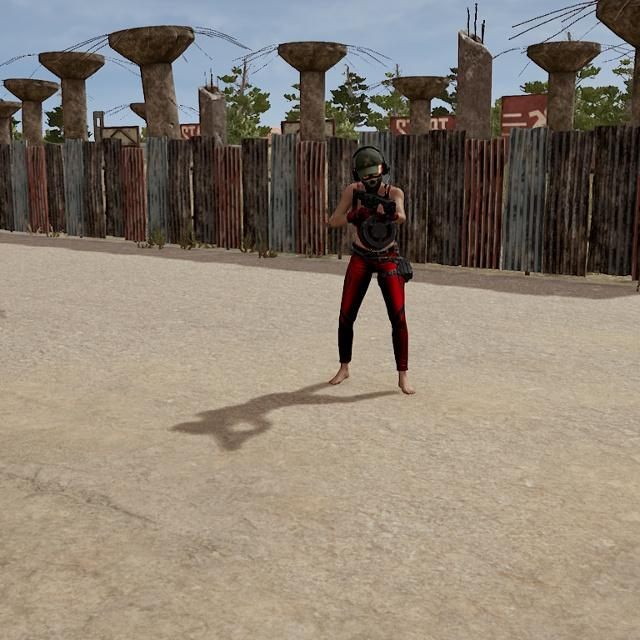head: (349, 145, 389, 193)
people: (327, 145, 416, 396)
